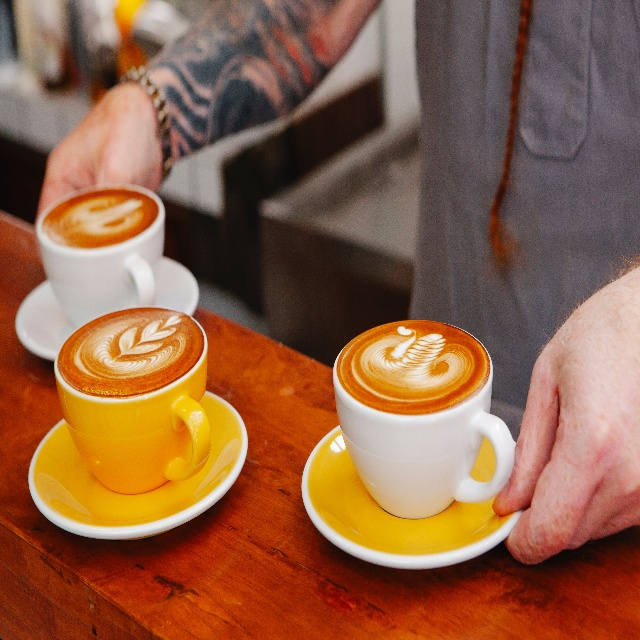Sin_guantes: (492, 266, 640, 565), (34, 82, 163, 226)
